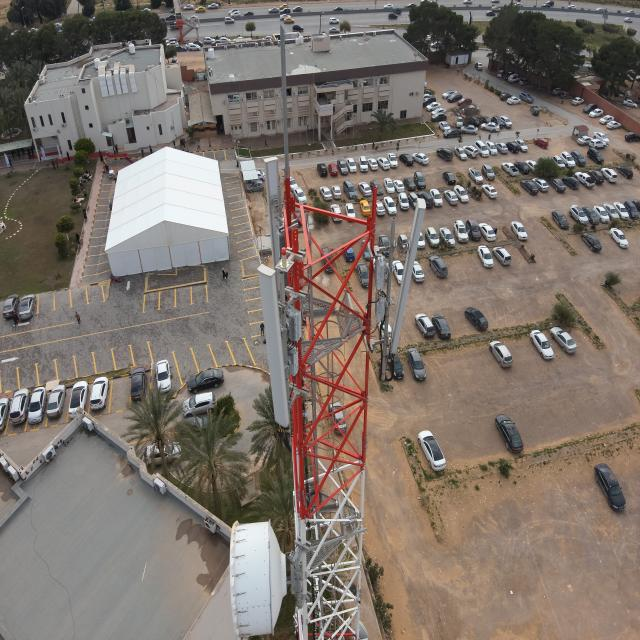Ground Based: (232, 25, 392, 640)
